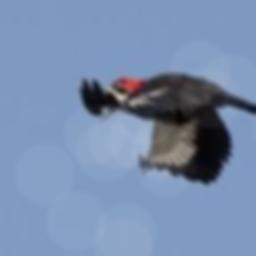Woodpecker: (80, 71, 256, 185)
